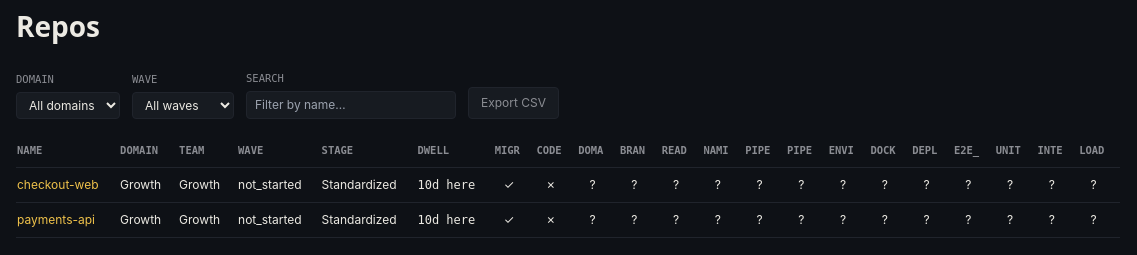
Test: RepoTablePage › filters by name search
Expected: the link "checkout-web" is shown, x1=17 y1=176 x2=99 y2=192
Type "checkout" into the field labelled "Search" at (351, 105), box x1=246 y1=91 x2=456 y2=119
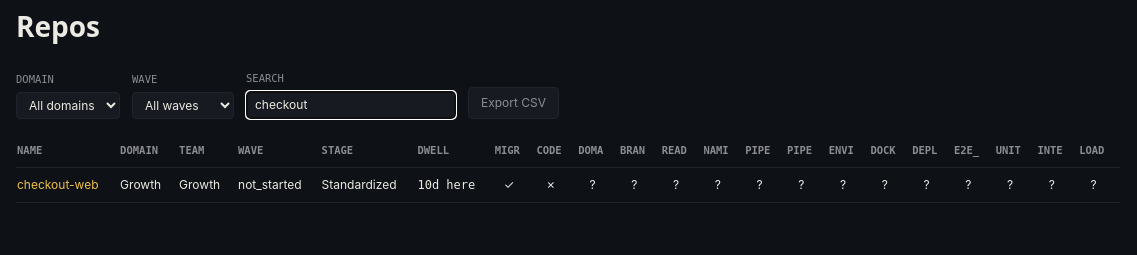
Expected: the link "checkout-web" is shown, x1=17 y1=176 x2=99 y2=192
Expected: the link "payments-api" is gone
